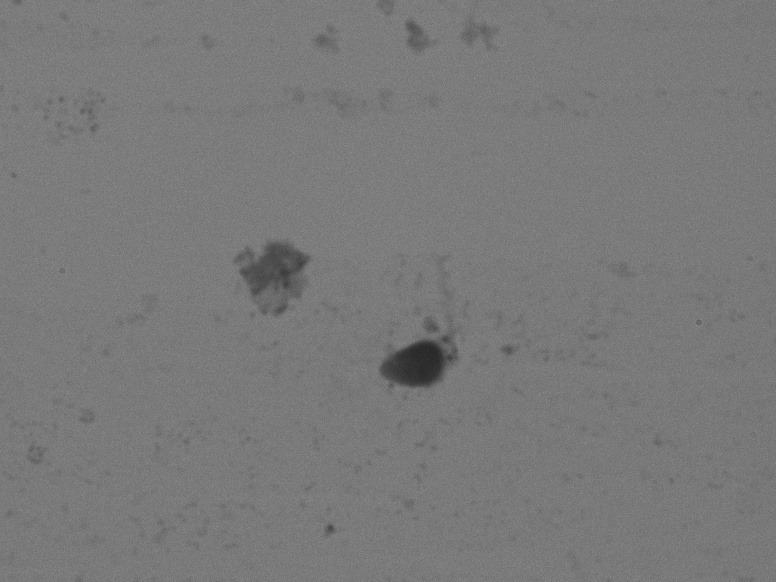Abnormal: (333, 216, 509, 438)
